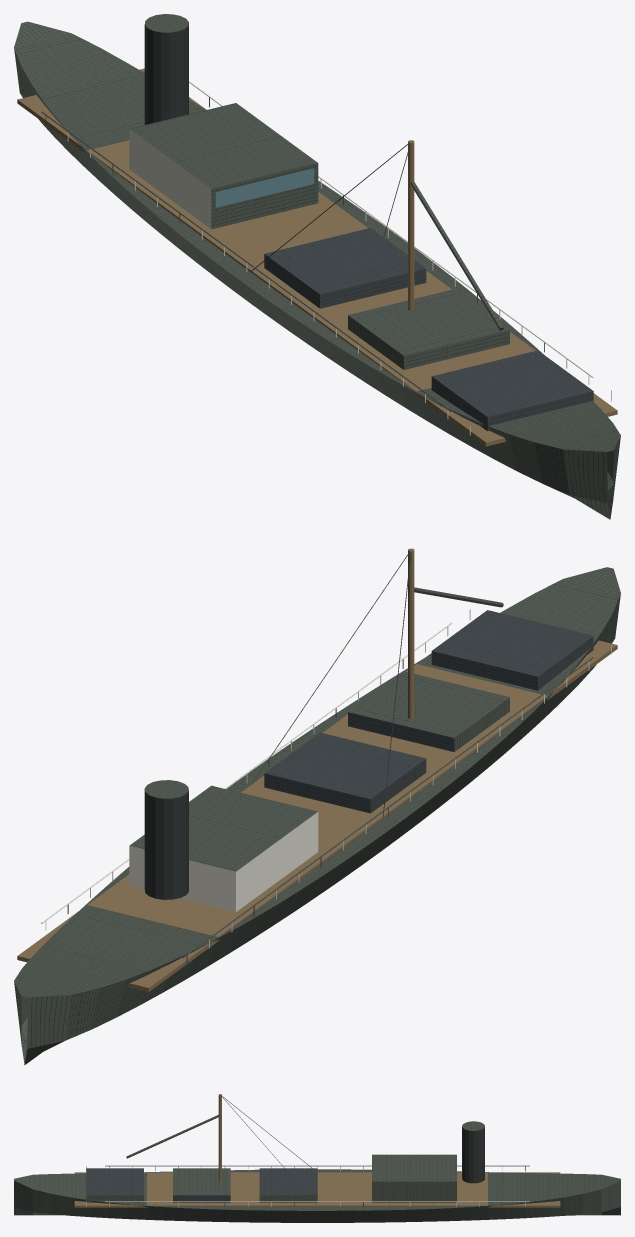
The model's file is damaged1.gltf.
3 renders of one model, top to bottom at view 1: azimuth 30°, elevation 25°; view 2: azimuth 150°, elevation 25°; view 3: azimuth 270°, elevation 25°, orthographic. The views are drawn at different scales.
Parts seen in each view (by area): view 1: britainfreighter_damaged1; view 2: britainfreighter_damaged1; view 3: britainfreighter_damaged1.
Part boxes in pixels (<box>): britainfreighter_damaged1: <box>14,14,620,519</box>; britainfreighter_damaged1: <box>14,548,620,1064</box>; britainfreighter_damaged1: <box>14,1094,620,1222</box>.
Bounding box in the file's own units: 34 × 46.05 × 210.
7 materials, 3 textured.
